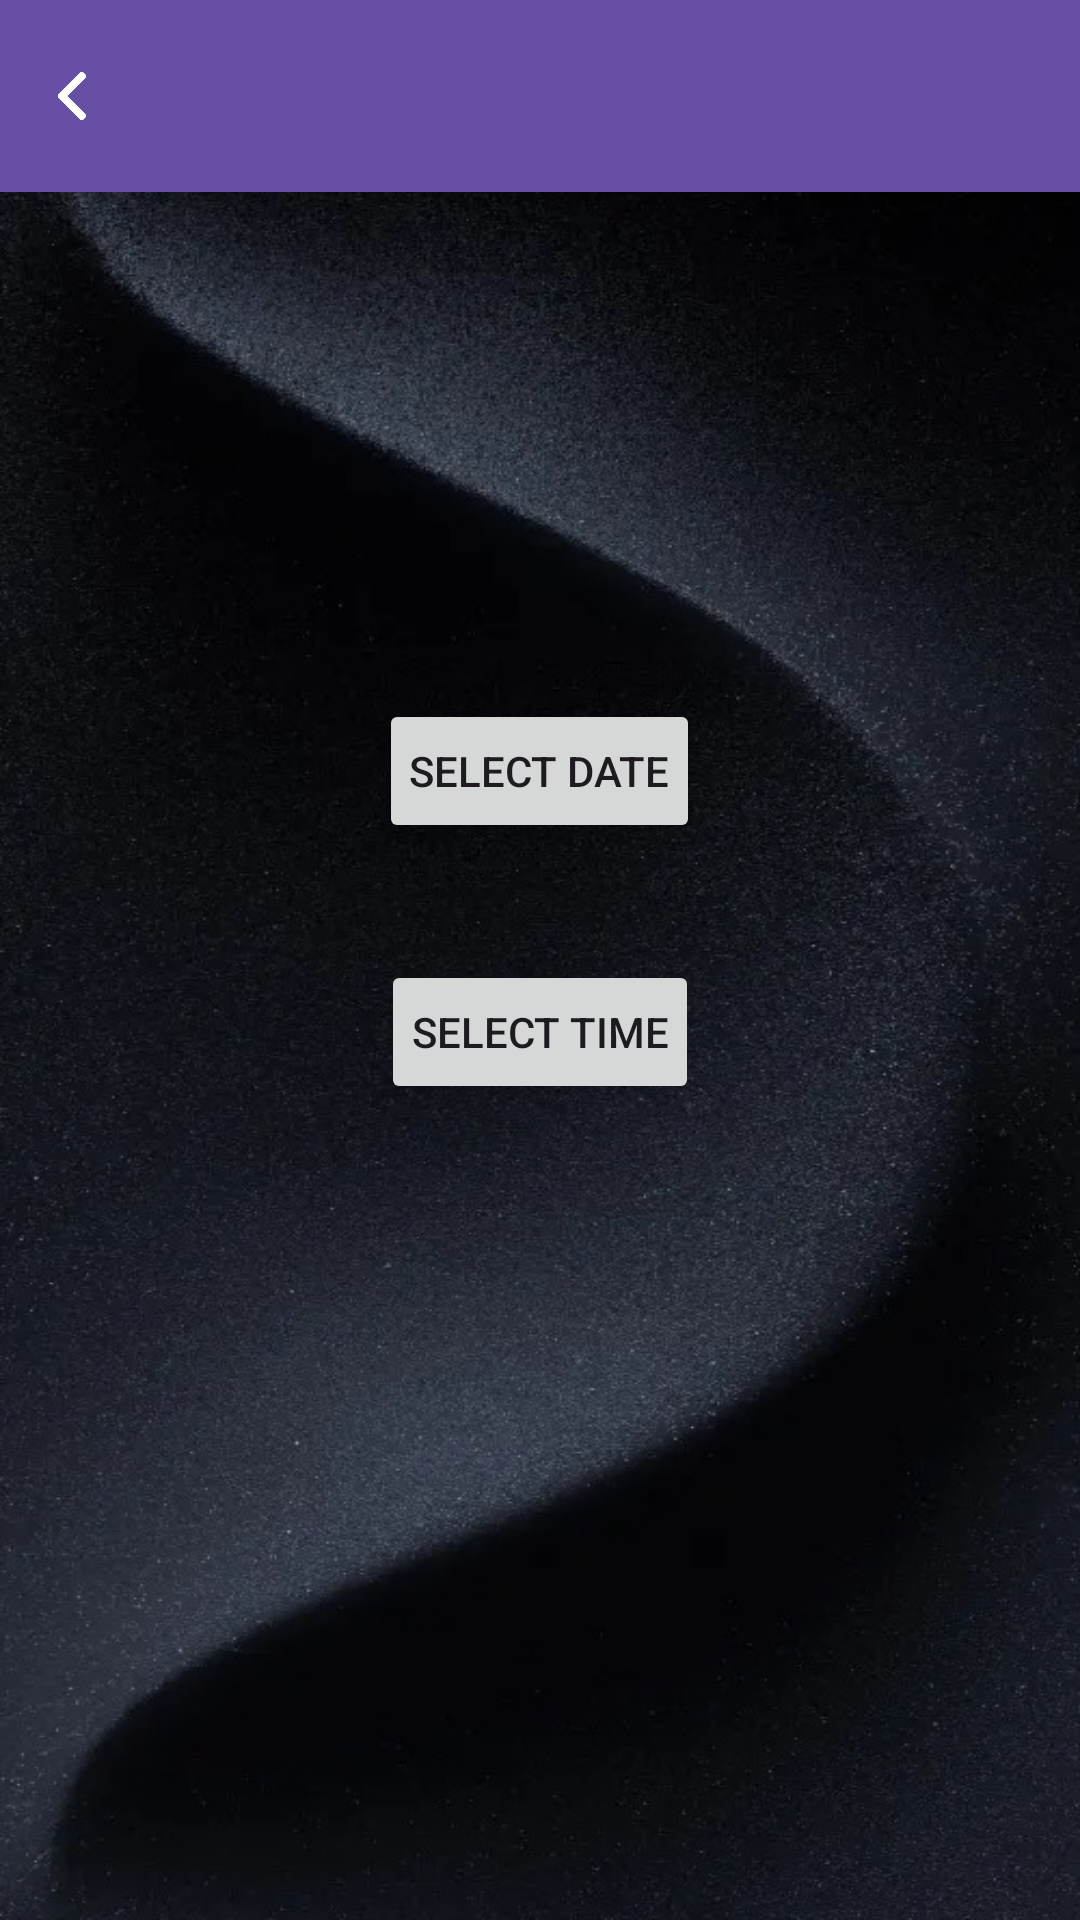

Screen size 1080*1920. Icon name, then its center in pixels as (x,y):
arrow back: (72,96)
